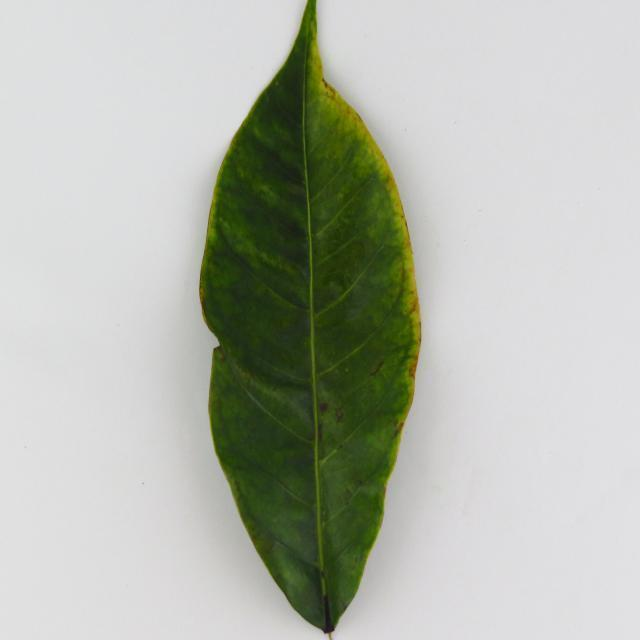DeficienciaNutricional-Manganeso: (200, 0, 420, 633)
